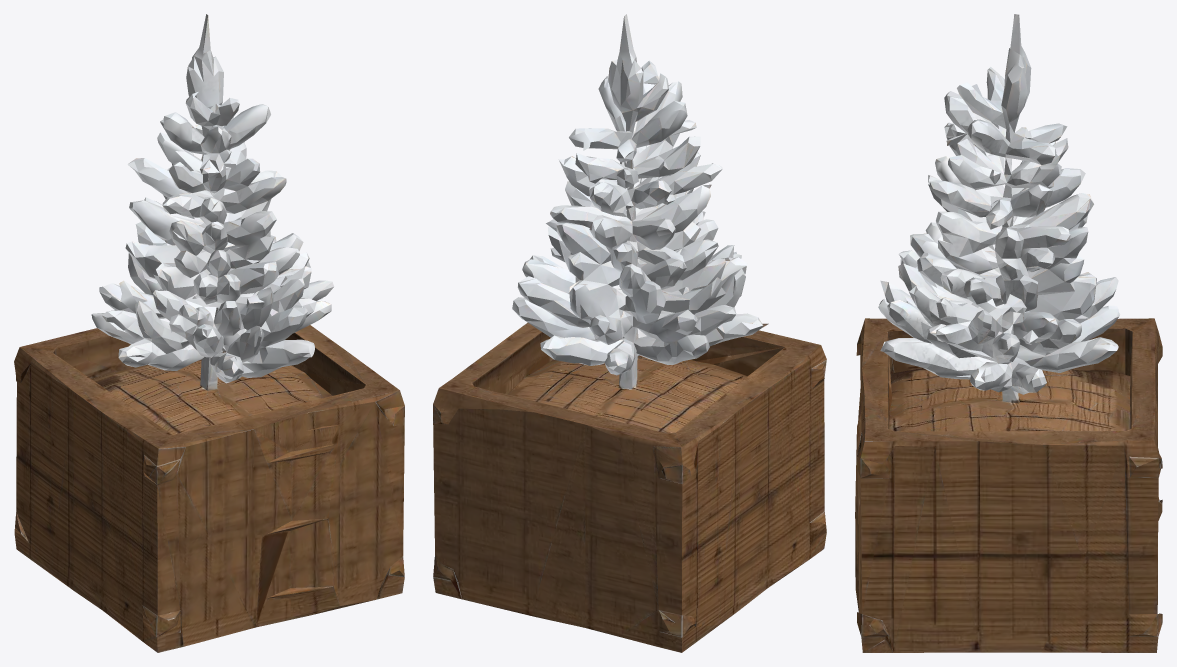
The model's file is planter_spruce.glb.
3 renders of one model, left to right at view 1: azimuth 30°, elevation 25°; view 2: azimuth 150°, elevation 25°; view 3: azimuth 270°, elevation 25°, orthographic. The views are drawn at different scales.
Size of the model in its own units: 0.9104 by 1.89 by 0.915.
1 material, 1 textured.
